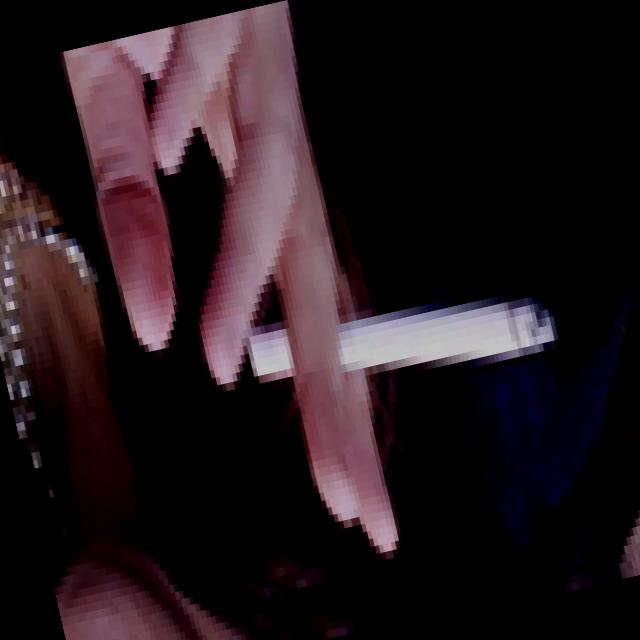smoke: (226, 232, 570, 428)
